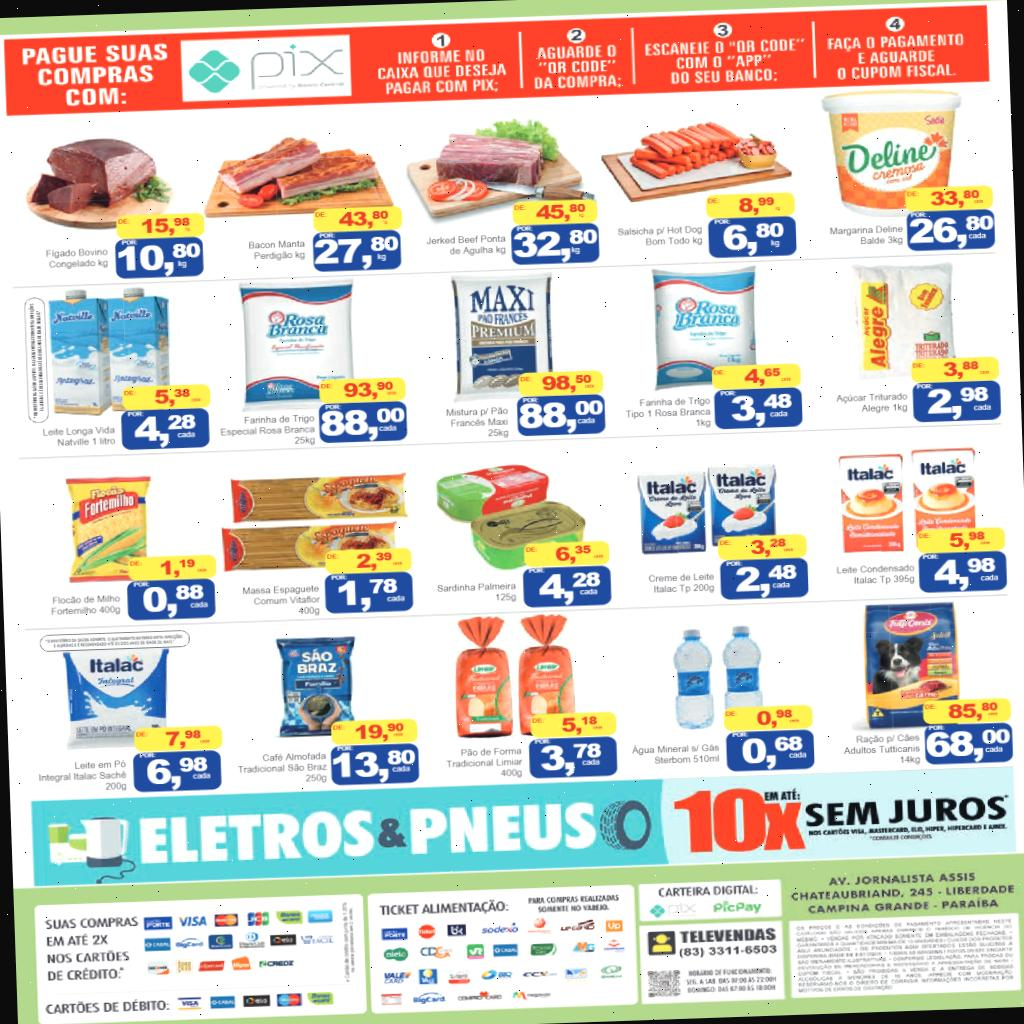price: (511, 228, 599, 264), (924, 728, 1012, 764), (908, 214, 994, 250), (313, 236, 399, 272), (322, 406, 408, 442), (117, 242, 201, 278), (516, 400, 603, 434), (332, 749, 416, 784), (336, 576, 408, 614), (930, 556, 1002, 592), (130, 412, 200, 448), (534, 570, 604, 606), (145, 755, 213, 792), (740, 734, 809, 770), (142, 584, 210, 620), (924, 386, 993, 421), (728, 392, 794, 428), (722, 220, 784, 258), (734, 562, 798, 598), (540, 742, 604, 776)
product_text: (214, 410, 317, 448), (236, 748, 328, 787), (36, 758, 130, 796), (622, 393, 713, 432), (443, 742, 524, 782), (839, 730, 922, 768), (240, 582, 322, 620), (630, 738, 721, 770), (615, 222, 705, 250), (442, 404, 510, 440), (434, 578, 518, 606), (834, 560, 916, 588), (424, 232, 508, 259), (832, 389, 909, 418), (47, 592, 124, 620), (643, 570, 716, 598), (826, 222, 904, 248), (40, 423, 118, 449), (42, 245, 110, 272), (244, 237, 307, 264)
